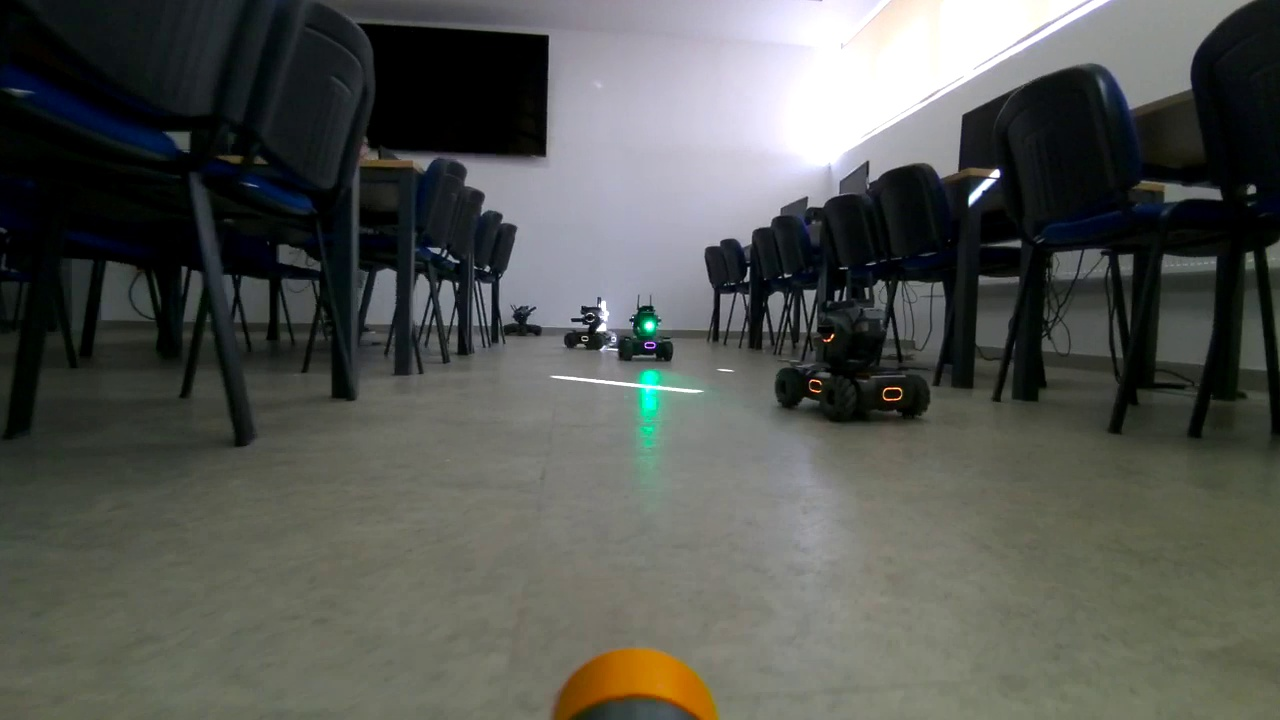robot: (767, 293, 929, 422), (623, 301, 681, 360), (551, 298, 618, 346)
